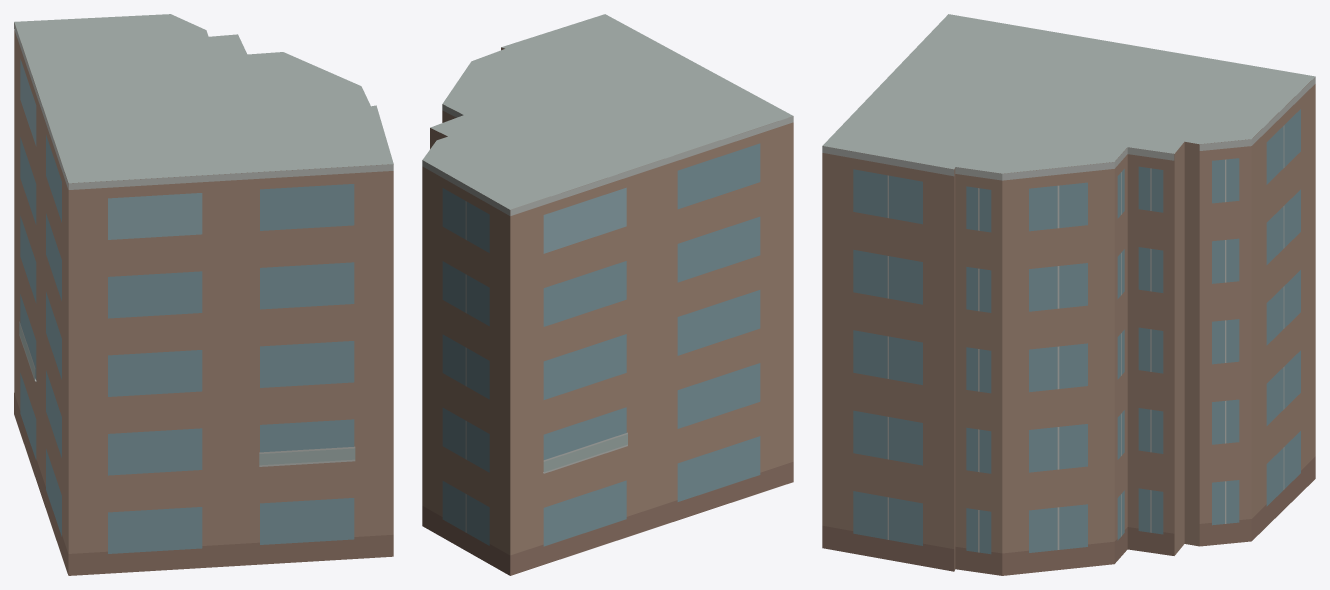
File: survey-upis-32625805.glb
3 views of the same model, side by side, from view 1: azimuth 30°, elevation 25°; view 2: azimuth 150°, elevation 25°; view 3: azimuth 270°, elevation 25° (orthographic). The views are drawn at different scales.
Visible parts, largest first — view 1: survey-upis-32625805.tmp; view 2: survey-upis-32625805.tmp; view 3: survey-upis-32625805.tmp.
Part boxes in pixels (<box>): survey-upis-32625805.tmp: <box>14,14,393,575</box>; survey-upis-32625805.tmp: <box>422,14,793,575</box>; survey-upis-32625805.tmp: <box>822,14,1315,575</box>.
Size of the model in its own units: 12.05 by 14.14 by 15.73.
